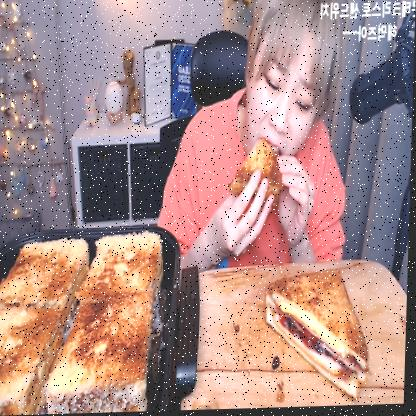streamer: (158, 0, 352, 269)
